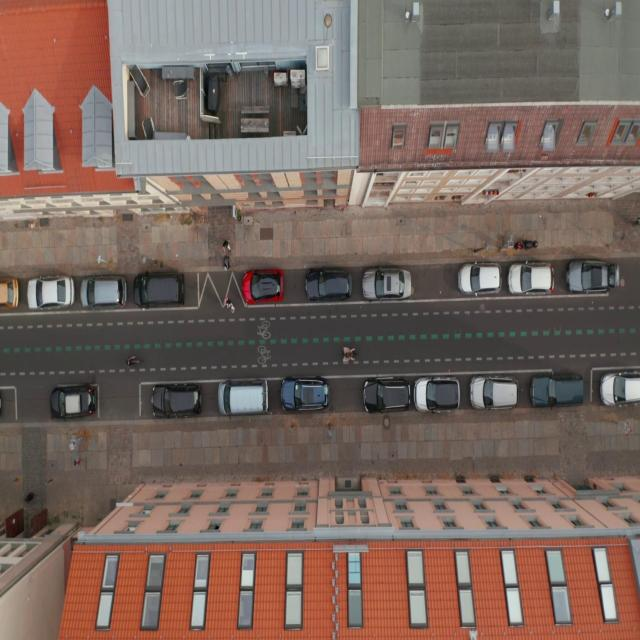Car: (530, 372, 585, 410), (361, 266, 412, 303), (151, 382, 203, 418), (412, 376, 460, 414), (362, 376, 410, 414), (470, 374, 520, 410), (280, 376, 330, 412), (565, 258, 612, 296), (49, 384, 97, 420), (26, 276, 75, 311), (80, 276, 127, 312), (508, 260, 554, 296), (458, 260, 501, 298), (305, 267, 352, 301), (242, 269, 284, 305), (599, 371, 640, 405), (0, 278, 19, 312)
Cycle: (514, 238, 538, 250), (342, 350, 360, 359), (130, 357, 142, 367)
Van: (217, 378, 269, 420), (132, 272, 186, 312)
